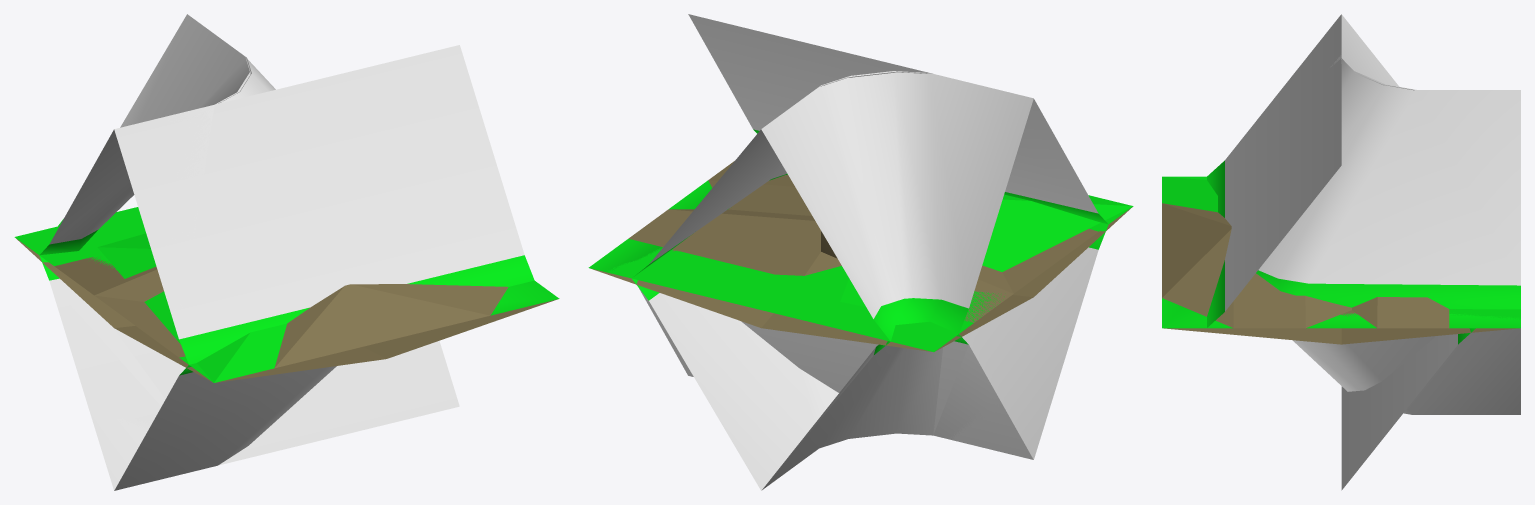
The model's file is WFC Modules_Slope.fbx.
3 views of the same model, side by side, from view 1: azimuth 30°, elevation 25°; view 2: azimuth 150°, elevation 25°; view 3: azimuth 270°, elevation 25° (orthographic). The views are drawn at different scales.
Parts seen in each view (by area): view 1: Ramp, RampReceiver, GoldCorner, InCornerRamp, Down, GoldMiddle, OutReceiver, GoldSide, OutCornerRamp, Ground, Ground_Portal; view 2: Down, InCornerRamp, GoldSide, OutReceiver, OutCornerRamp, Ground, Ramp, GoldCorner, RampReceiver, Ground_Portal, GoldMiddle; view 3: OutCornerRamp, Ramp, GoldCorner, InCornerRamp, RampReceiver, GoldMiddle, GoldSide, Down, Ground_Portal, Ground.
Boxes of the visible parts, x1,y1,x2,y2 form: Ramp: (114, 45, 534, 364); RampReceiver: (49, 281, 459, 465); GoldCorner: (97, 233, 508, 382); InCornerRamp: (114, 365, 336, 490); Down: (39, 14, 251, 255); GoldMiddle: (16, 238, 557, 382); OutReceiver: (39, 255, 165, 490); GoldSide: (54, 257, 213, 382); OutCornerRamp: (167, 57, 559, 315); Ground: (14, 207, 145, 269); Ground_Portal: (15, 207, 145, 265); Down: (761, 71, 1033, 341); InCornerRamp: (632, 225, 1108, 490); GoldSide: (590, 207, 1131, 351); OutReceiver: (762, 341, 1002, 489); OutCornerRamp: (588, 71, 1107, 276); Ground: (614, 247, 1004, 351); Ramp: (688, 14, 928, 133); GoldCorner: (607, 161, 1133, 306); RampReceiver: (639, 288, 1033, 459); Ground_Portal: (624, 231, 976, 351); GoldMiddle: (935, 207, 1132, 351); OutCornerRamp: (1162, 15, 1520, 328); Ramp: (1207, 14, 1341, 327); GoldCorner: (1162, 176, 1506, 328); InCornerRamp: (1293, 328, 1520, 414); RampReceiver: (1341, 328, 1475, 490); GoldMiddle: (1164, 328, 1518, 344); GoldSide: (1164, 176, 1449, 328); Down: (1341, 14, 1414, 90); Ground_Portal: (1449, 309, 1520, 319); Ground: (1450, 309, 1520, 319).
Bounding box in the file's own units: 200 × 200 × 200.
